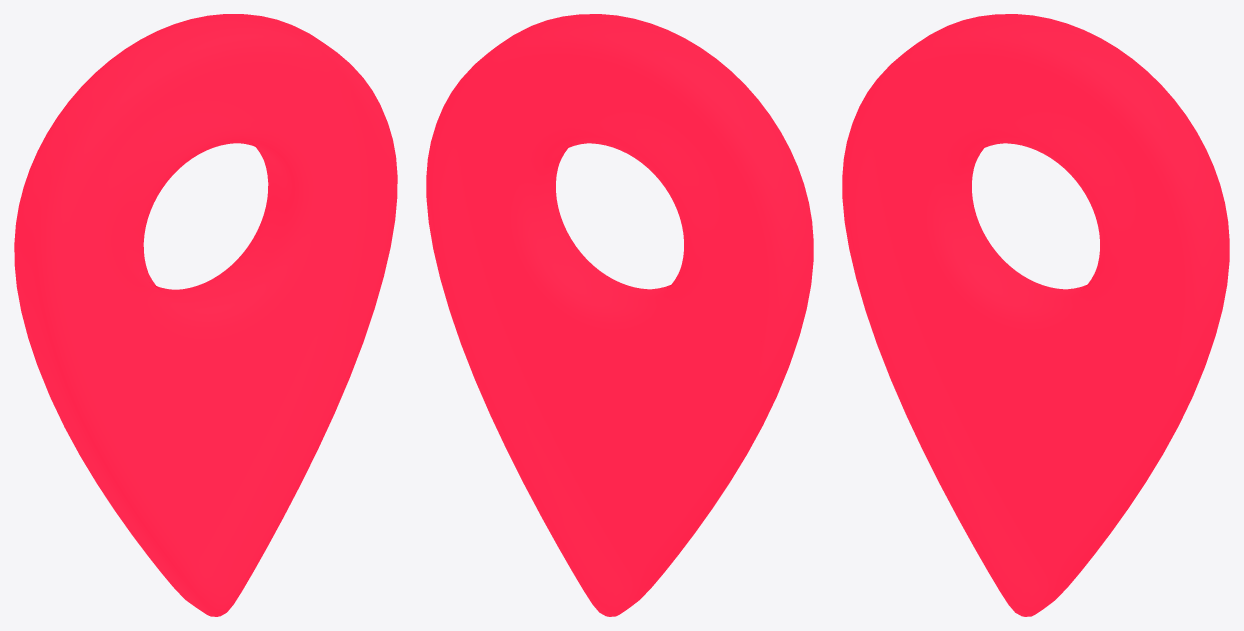
Rendered from puntointeresse.fbx.
The picture shows the model from 3 angles, left to right: view 1: azimuth 30°, elevation 25°; view 2: azimuth 150°, elevation 25°; view 3: azimuth 330°, elevation 25°; orthographic projection.
Parts seen in each view (by area): view 1: Cylinder.004; view 2: Cylinder.004; view 3: Cylinder.004.
Part boxes in pixels (left/top/right/bottom): Cylinder.004: left=14, top=14, right=397, bottom=616; Cylinder.004: left=426, top=14, right=813, bottom=616; Cylinder.004: left=842, top=14, right=1229, bottom=616.
Bounding box in the file's own units: 193 × 297 × 37.46.
